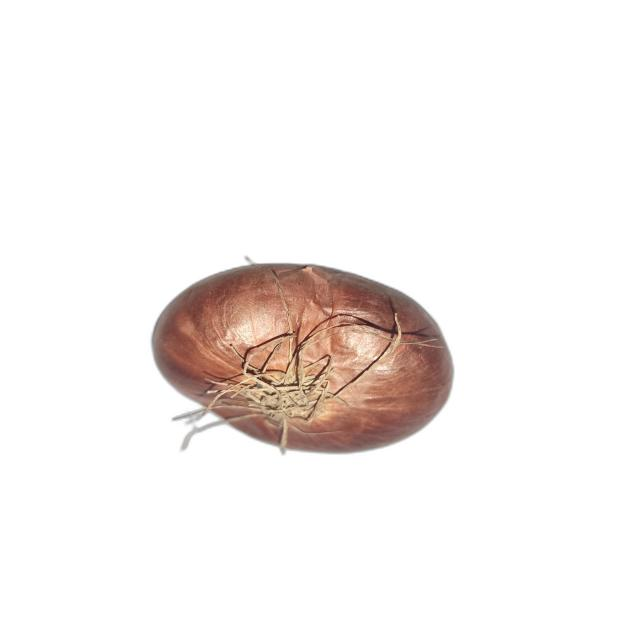onion: (150, 261, 458, 455)
